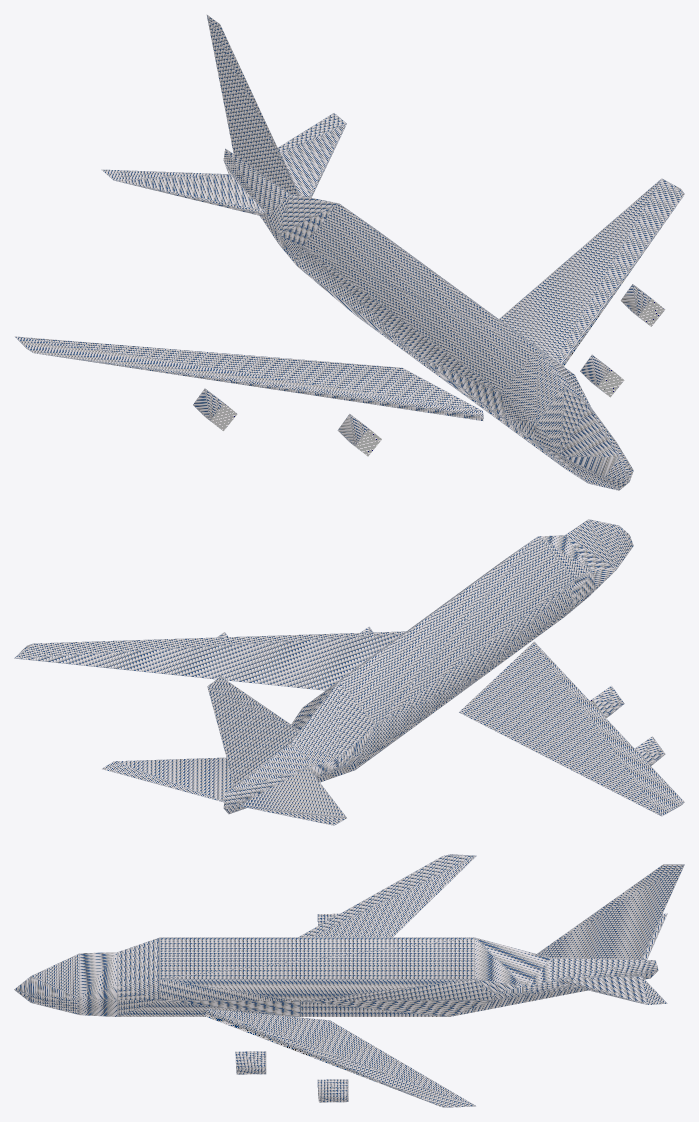
File: AIA_747_400_LCF_MSFS_LOD1.gltf
The picture shows the model from 3 angles, top to bottom: view 1: azimuth 30°, elevation 25°; view 2: azimuth 150°, elevation 25°; view 3: azimuth 270°, elevation 25°; orthographic projection. The views are drawn at different scales.
Parts seen in each view (by area): view 1: node1; view 2: node1; view 3: node1.
Part boxes in pixels (left/top/right/bottom): node1: left=14, top=14, right=684, bottom=490; node1: left=14, top=519, right=684, bottom=825; node1: left=14, top=854, right=684, bottom=1107.
Size of the model in its own units: 63.42 by 19.08 by 70.96.
